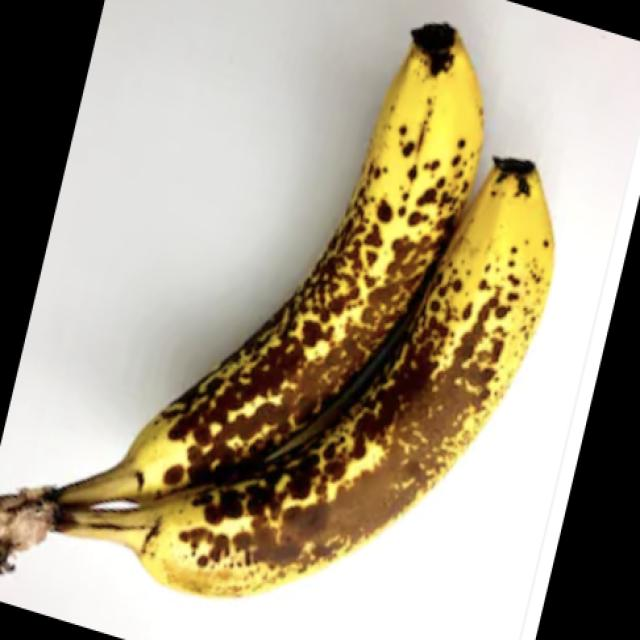overripe: (61, 162, 561, 597), (59, 25, 484, 498)
